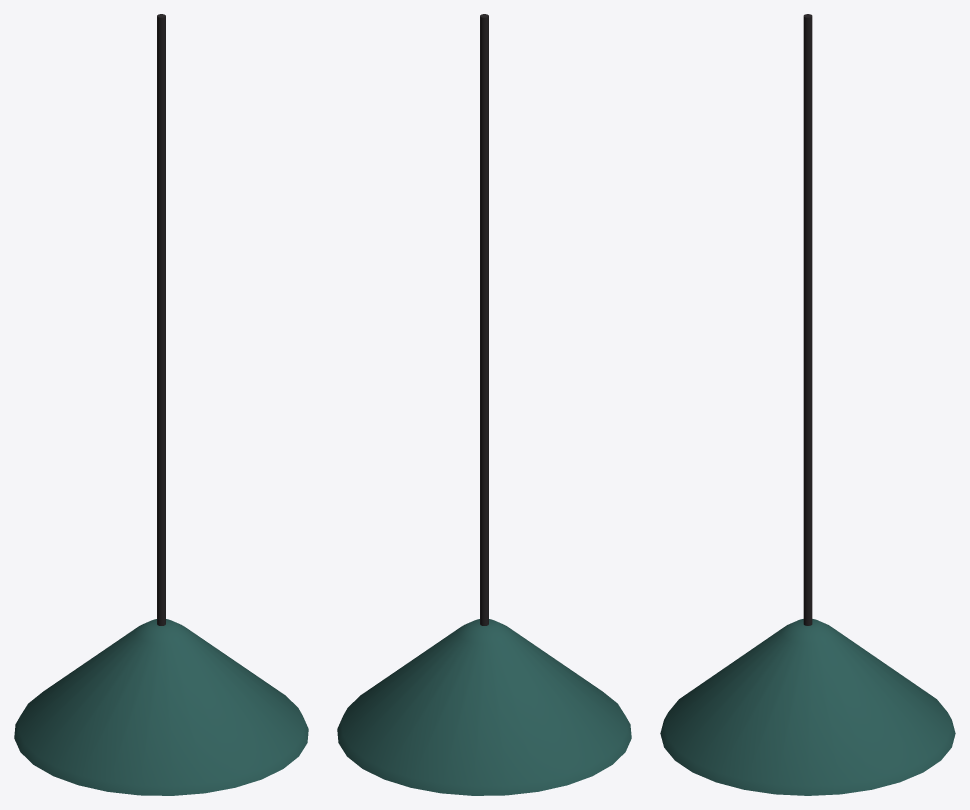
Rendered from prop_hanglamp.fbx.
The picture shows the model from 3 angles, left to right: view 1: azimuth 30°, elevation 25°; view 2: azimuth 150°, elevation 25°; view 3: azimuth 270°, elevation 25°; orthographic projection.
Parts seen in each view (by area): view 1: prop_hanglamp; view 2: prop_hanglamp; view 3: prop_hanglamp.
Part boxes in pixels (x1=…): prop_hanglamp: x1=14, y1=14, x2=308, y2=795; prop_hanglamp: x1=337, y1=14, x2=631, y2=795; prop_hanglamp: x1=660, y1=14, x2=955, y2=795.
Bounding box in the file's own units: 0.66 × 1.77 × 0.66.
